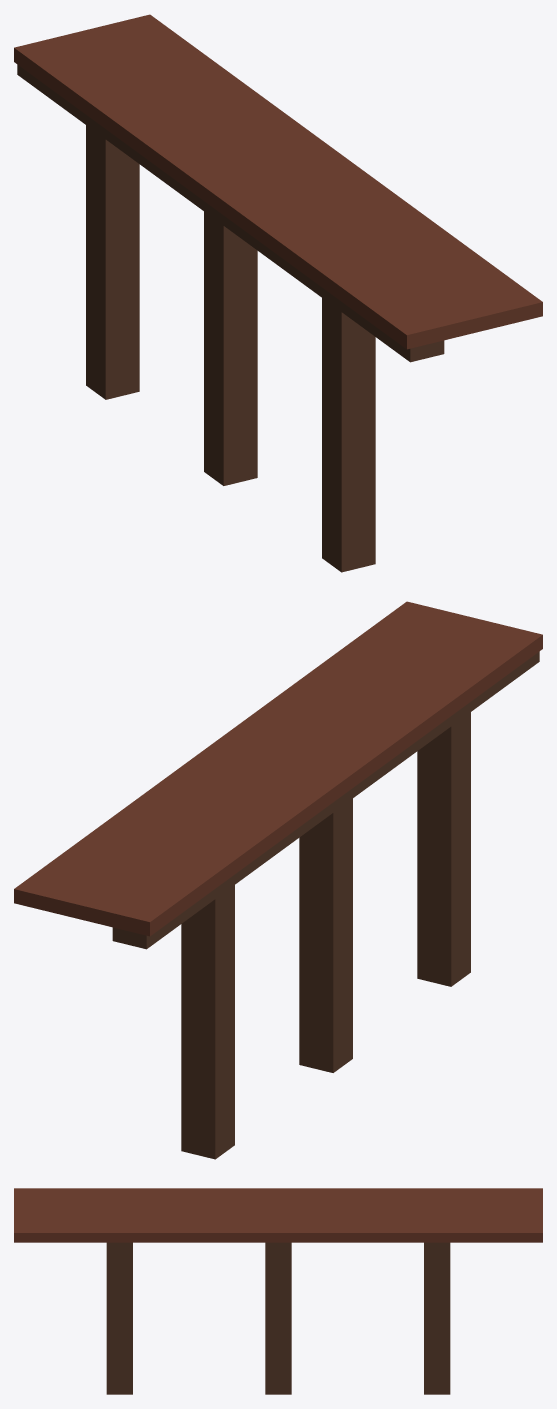
File: Cashier Desk.fbx
3 renders of one model, top to bottom at view 1: azimuth 30°, elevation 25°; view 2: azimuth 150°, elevation 25°; view 3: azimuth 270°, elevation 25°, orthographic. The views are drawn at different scales.
Parts seen in each view (by area): view 1: Cashier Desk; view 2: Cashier Desk; view 3: Cashier Desk.
Part boxes in pixels (x1,y1,x2,y2): Cashier Desk: (14,14,542,572); Cashier Desk: (14,601,542,1159); Cashier Desk: (14,1188,542,1394).
Size of the model in its own units: 400 by 810 by 2000.
